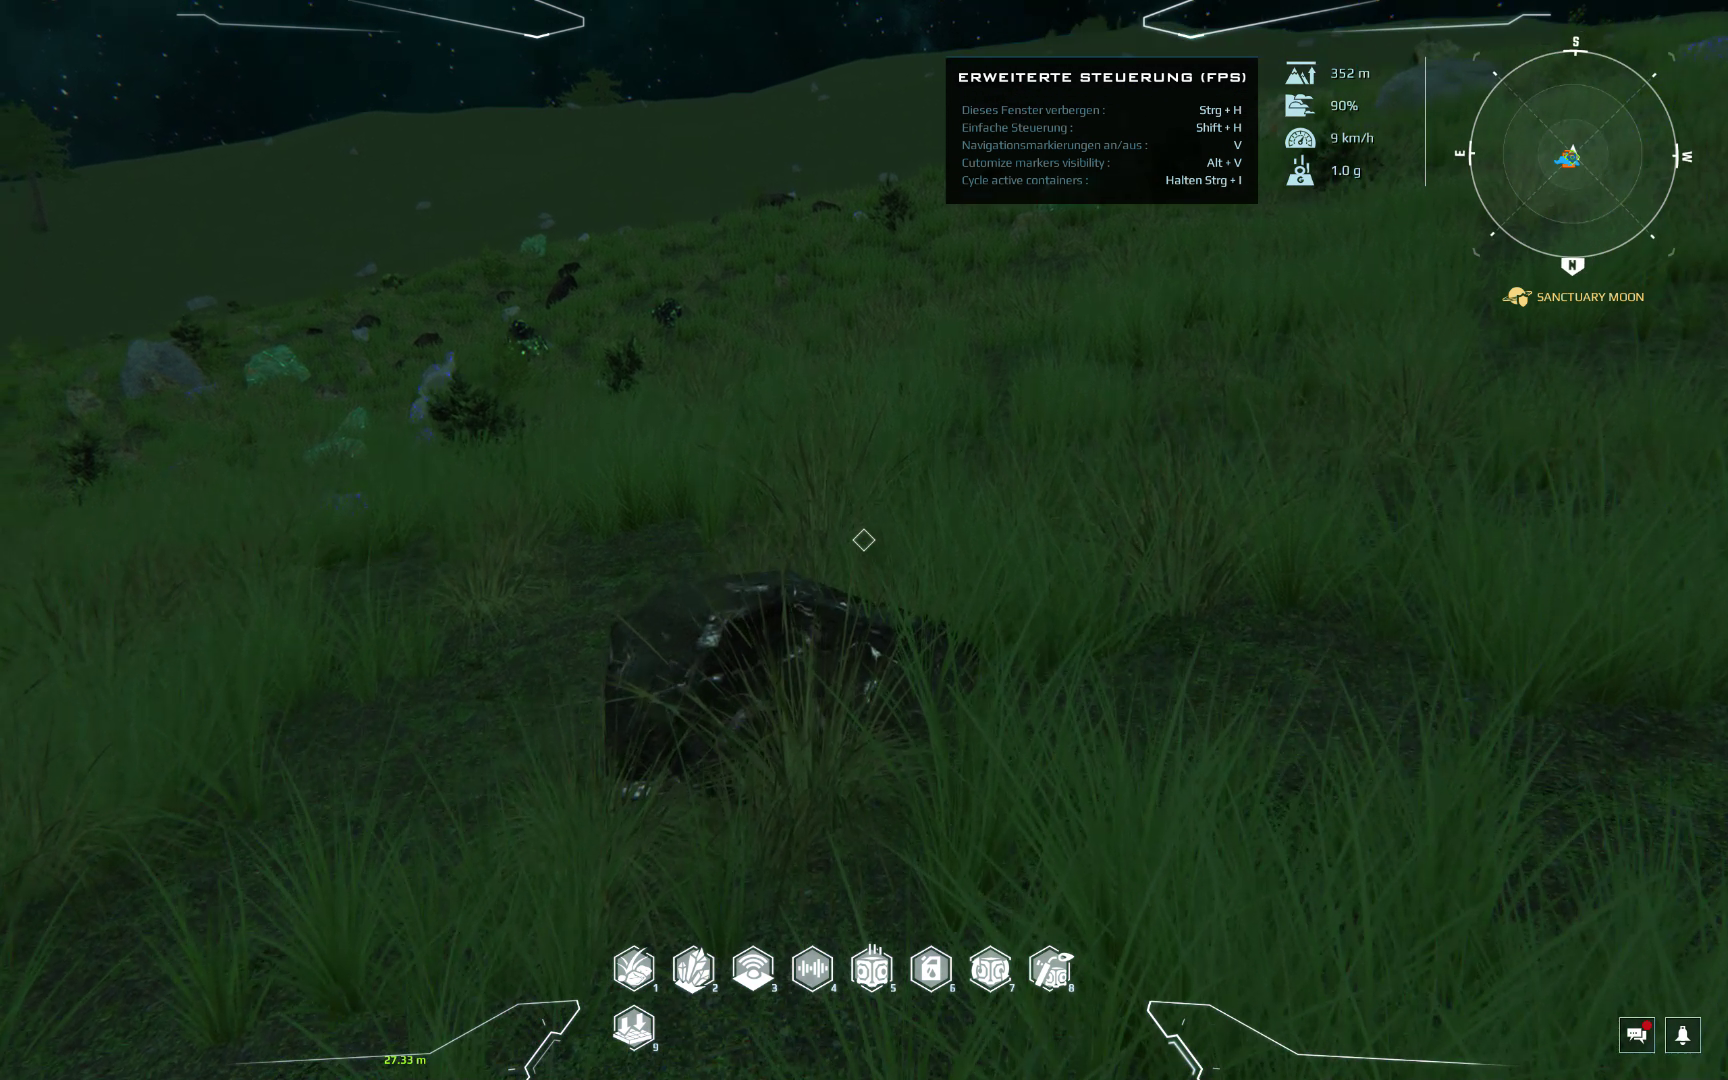Ore: (597, 566, 985, 799), (299, 403, 374, 474), (239, 341, 311, 394), (542, 272, 580, 309), (509, 335, 552, 363), (516, 231, 547, 263), (653, 297, 685, 327), (408, 328, 447, 351), (347, 311, 384, 332), (552, 256, 583, 280), (503, 319, 534, 338), (304, 326, 328, 338)
